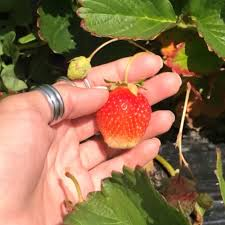ripe: (91, 83, 152, 153)
